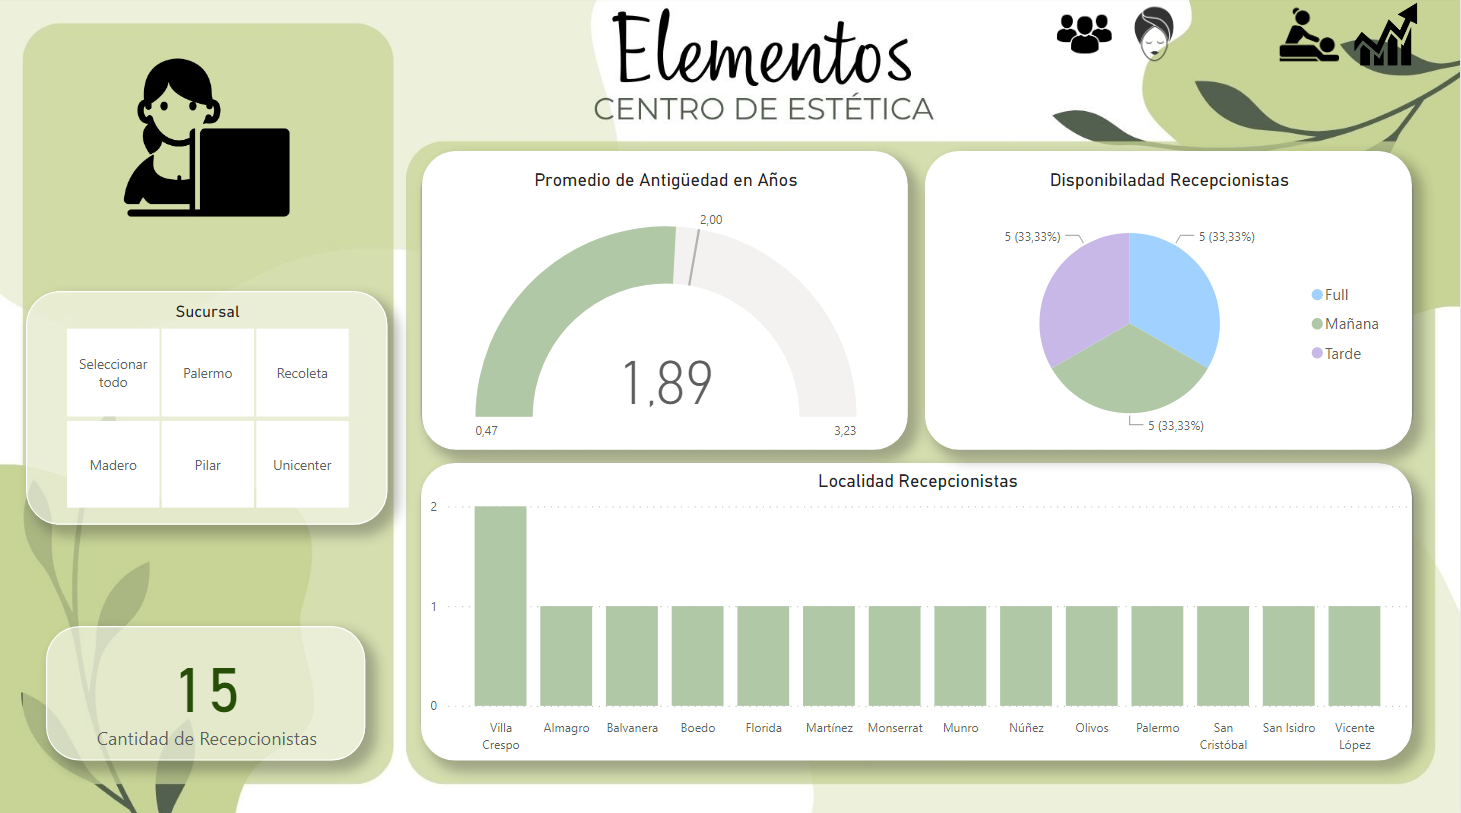

What the dashboard file says about the page in this screenshot:
{"tool":"powerbi","page":{"name":"RECEPCIONISTAS","canvas":[1280,720],"ordinal":3},"visuals":[{"type":"card","fields":{"Values":["Calculos.Cantidad de Recepcionistas"]},"box":[40.6,551.8,280.2,117.6],"z":0},{"type":"image","box":[937.4,2.1,149.2,60.7],"z":1000},{"type":"image","box":[1117.4,2.1,61.7,61.7],"z":2000},{"type":"image","box":[912.7,10.3,75.1,44.2],"z":3000},{"type":"gauge","title":"Promedio de Antigüedad en Años","fields":{"Y":["Avg(recepcionistas.Antiguedad)"],"MinValue":["Min(recepcionistas.Antiguedad)1"],"MaxValue":["Max(recepcionistas.Antiguedad)2"]},"box":[370,134.7,425.6,262],"z":4000},{"type":"slicer","title":"Sucursal","fields":{"Values":["sucursales.nombre_sucursal"]},"box":[22.5,257.7,316.5,205.3],"z":5000},{"type":"columnChart","title":"Localidad Recepcionistas","fields":{"Category":["recepcionistas.localidad_recepcionista"],"Y":["CountNonNull(recepcionistas.id_recepcionista)"]},"box":[368.9,408.5,869.4,260.9],"z":6000},{"type":"pieChart","title":"Disponibiladad Recepcionistas","fields":{"Y":["CountNonNull(recepcionistas.id_recepcionista)"],"Series":["recepcionistas.dispo_recepcionista"]},"box":[811.6,134.7,426.7,262],"z":7000},{"type":"image","box":[38.5,20.3,284.4,212.8],"z":8000},{"type":"image","box":[1163.5,0,103.5,65.3],"z":8001}]}

Visuals, with their boxes in screenshot pixels (x1, y1, x2, y2), scaled from the page's 1280x720 canvas onto the 1461x813 screenshot:
card - Calculos.Cantidad de Recepcionistas: rect(46, 623, 366, 756)
image: rect(1070, 2, 1240, 71)
image: rect(1275, 2, 1346, 72)
image: rect(1042, 12, 1127, 62)
"Promedio de Antigüedad en Años" gauge: rect(422, 152, 908, 448)
"Sucursal" slicer: rect(26, 291, 387, 523)
"Localidad Recepcionistas" columnChart: rect(421, 461, 1413, 756)
"Disponibiladad Recepcionistas" pieChart: rect(926, 152, 1413, 448)
image: rect(44, 23, 369, 263)
image: rect(1328, 0, 1446, 74)
